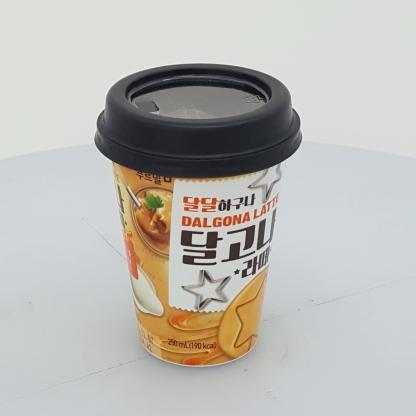---------250ML: (94, 63, 302, 367)
